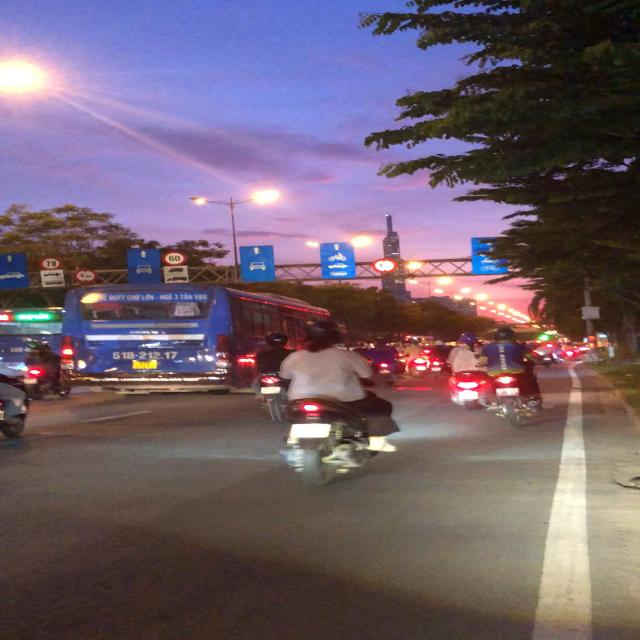Bien bao han che chieu cao: (68, 266, 100, 284), (371, 255, 396, 275)
Bien bao toc do toi da cho phep: (157, 248, 187, 267), (35, 255, 67, 270)
